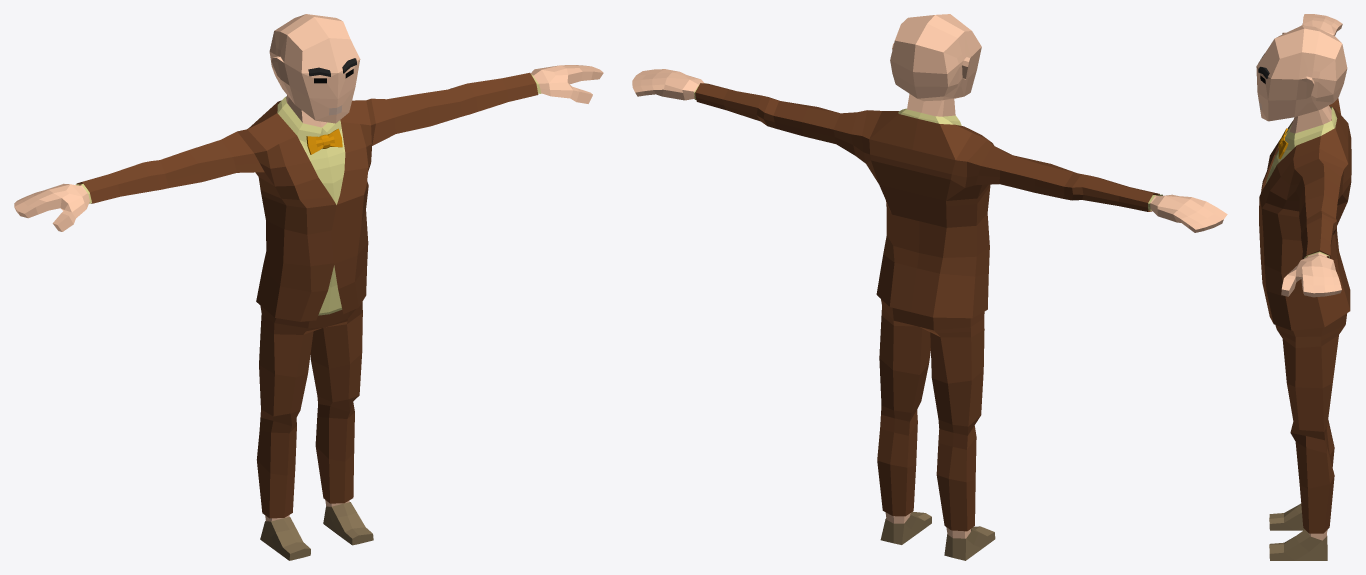
The model's file is NPC_TrajeMarron_Escenario2_Pajarita.fbx.
3 renders of one model, left to right at view 1: azimuth 30°, elevation 25°; view 2: azimuth 150°, elevation 25°; view 3: azimuth 270°, elevation 25°, orthographic. The views are drawn at different scales.
Parts seen in each view (by area): view 1: Personaje; view 2: Personaje; view 3: Personaje.
Part boxes in pixels (left/top/right/bottom): Personaje: left=14, top=14, right=603, bottom=560; Personaje: left=632, top=14, right=1227, bottom=560; Personaje: left=1256, top=14, right=1351, bottom=560.
Size of the model in its own units: 215 by 184 by 30.94.
